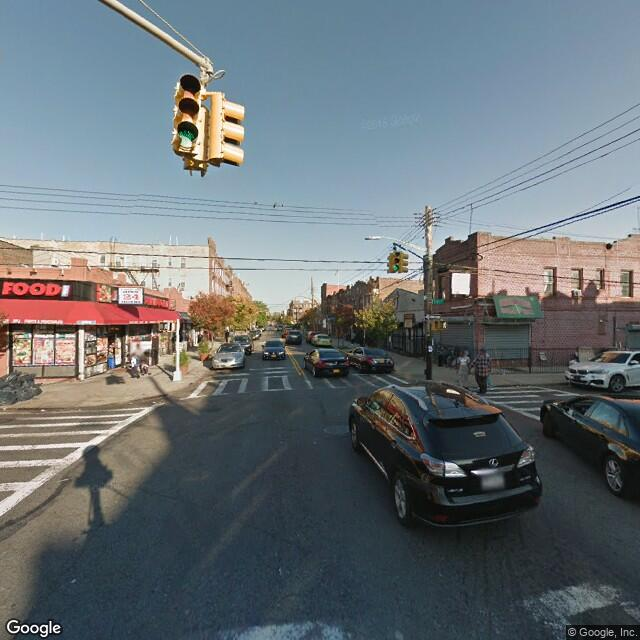litter: (3, 368, 48, 413)
